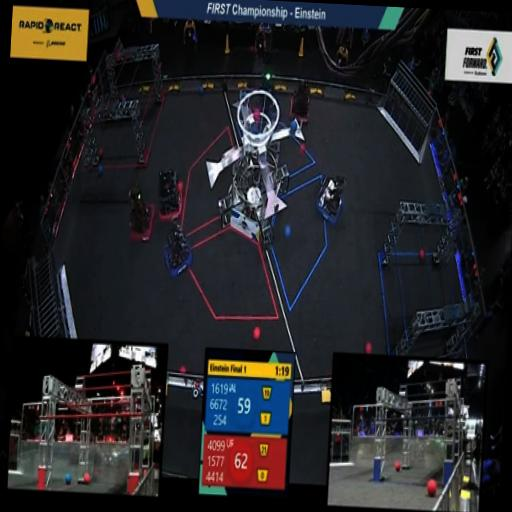robot: (246, 74, 284, 144), (158, 216, 198, 282), (310, 165, 348, 229), (124, 182, 158, 250), (155, 158, 187, 225), (286, 80, 312, 124)
